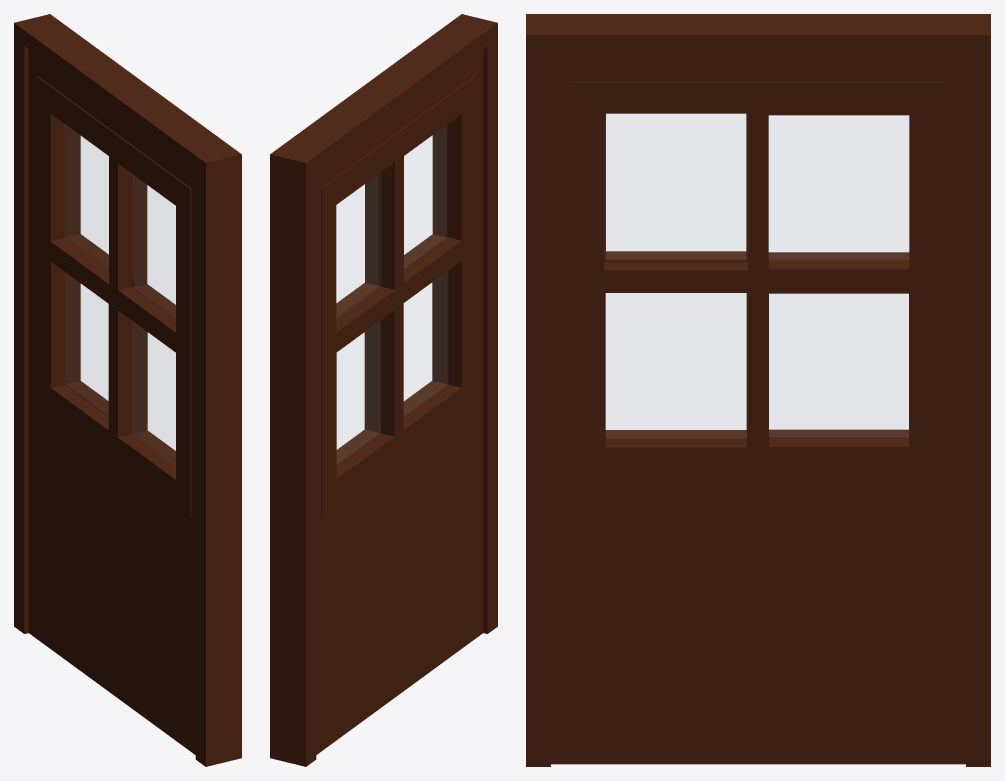
The model's file is door.glb.
3 views of the same model, side by side, from view 1: azimuth 30°, elevation 25°; view 2: azimuth 150°, elevation 25°; view 3: azimuth 270°, elevation 25° (orthographic). The views are drawn at different scales.
Parts seen in each view (by area): view 1: DoorIntern, Door; view 2: DoorIntern, Door; view 3: DoorIntern, Door.
Part boxes in pixels (bbox=[...]): DoorIntern: bbox=[28, 49, 195, 754]; Door: bbox=[14, 14, 241, 766]; DoorIntern: bbox=[316, 49, 483, 754]; Door: bbox=[270, 14, 497, 766]; DoorIntern: bbox=[551, 54, 965, 764]; Door: bbox=[526, 14, 990, 766].
Bounding box in the file's own units: 0.1747 × 2.79 × 1.61.
